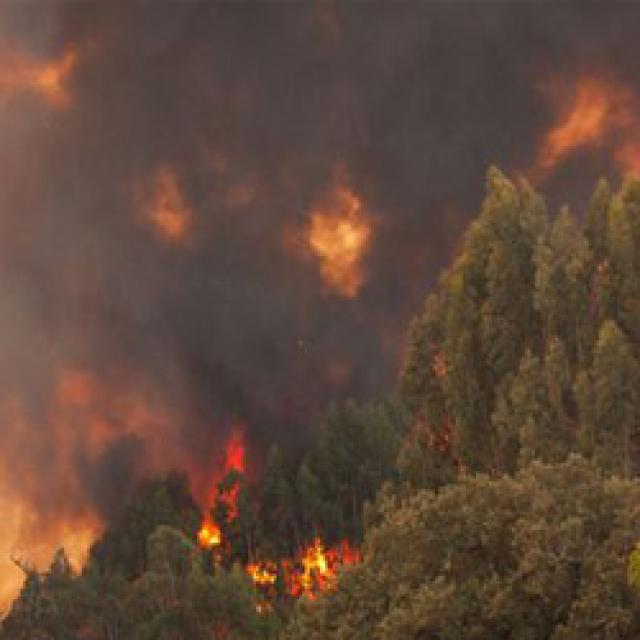Fire: (166, 404, 272, 576), (241, 542, 386, 626)
Smoke: (0, 0, 640, 218), (0, 0, 401, 312), (0, 0, 195, 640)
